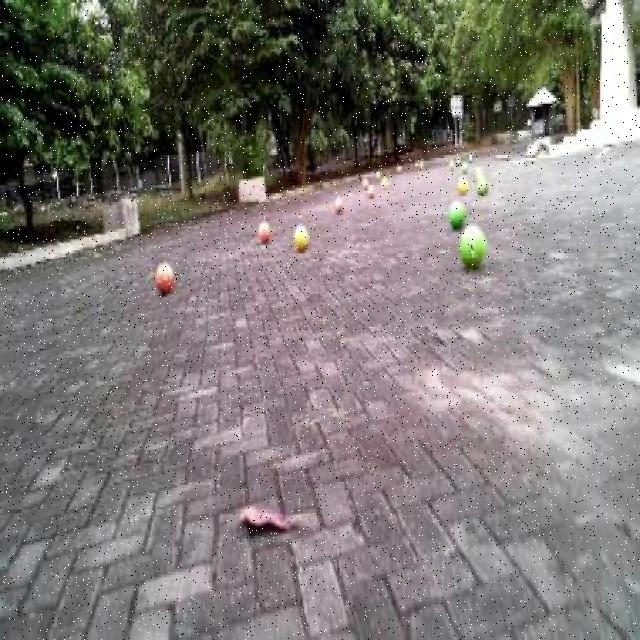buoy: (452, 210, 492, 278), (148, 247, 181, 306), (250, 208, 279, 258), (442, 190, 468, 232), (288, 214, 312, 258), (328, 185, 349, 220), (474, 168, 492, 200)
